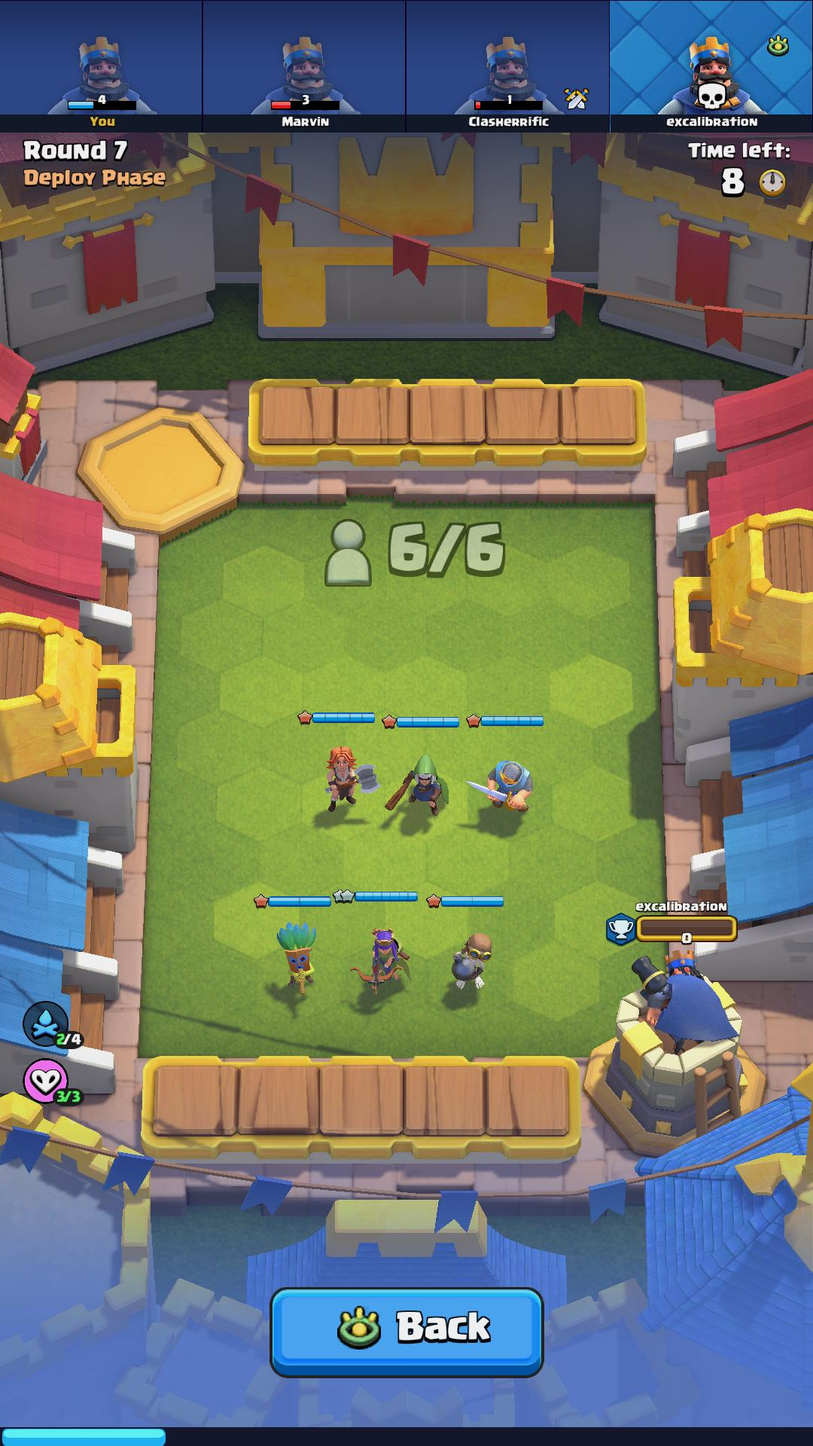bandit: (389, 747, 455, 817)
bomber: (437, 925, 501, 1002)
dart: (265, 911, 329, 1002)
knight: (465, 746, 542, 832)
queen: (349, 919, 413, 1004)
valkyrie: (314, 738, 385, 825)
